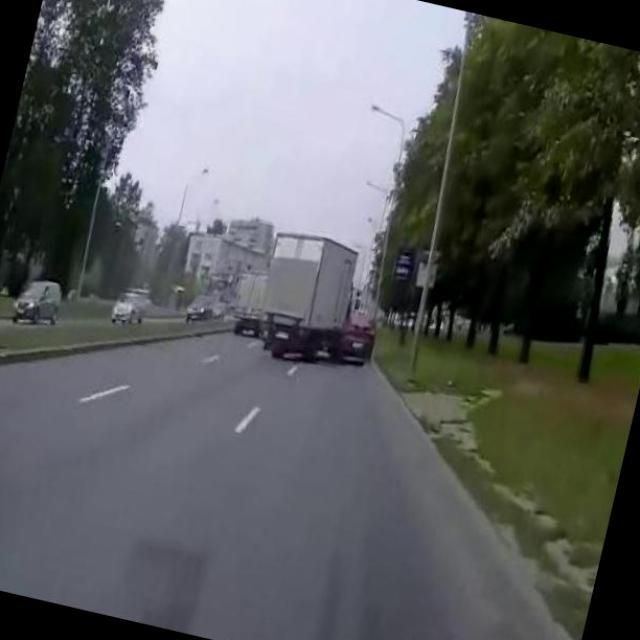accident: (250, 217, 406, 396)
